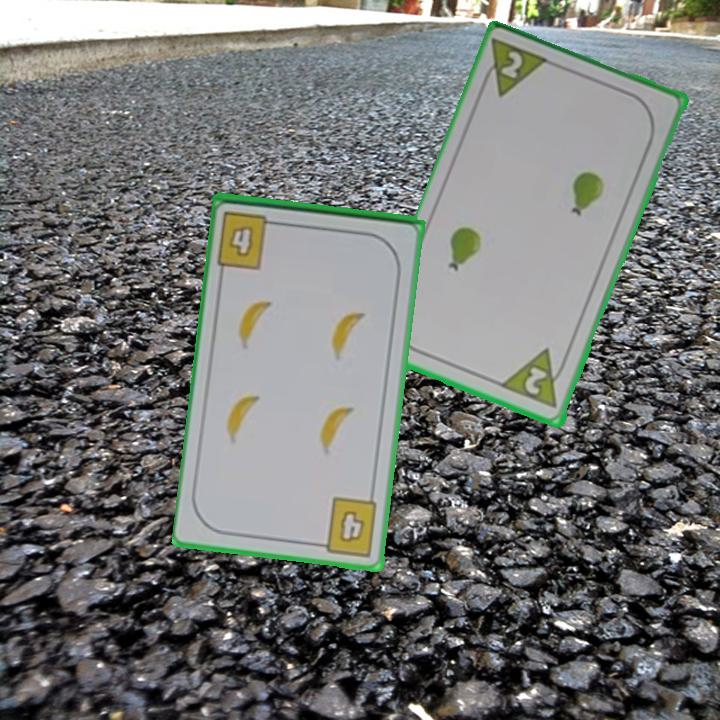2p: (476, 35, 553, 101), (499, 345, 572, 413)
4b: (214, 208, 285, 272), (313, 493, 380, 559)
